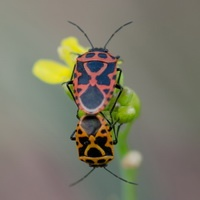insect: (63, 21, 139, 185)
